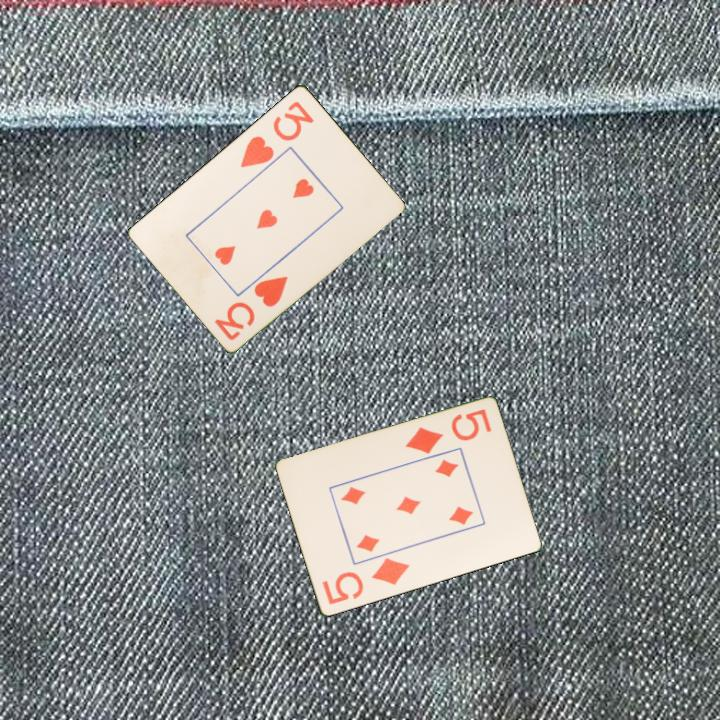3h: (236, 97, 317, 170), (211, 272, 291, 343)
5d: (318, 555, 413, 608), (402, 405, 494, 457)
